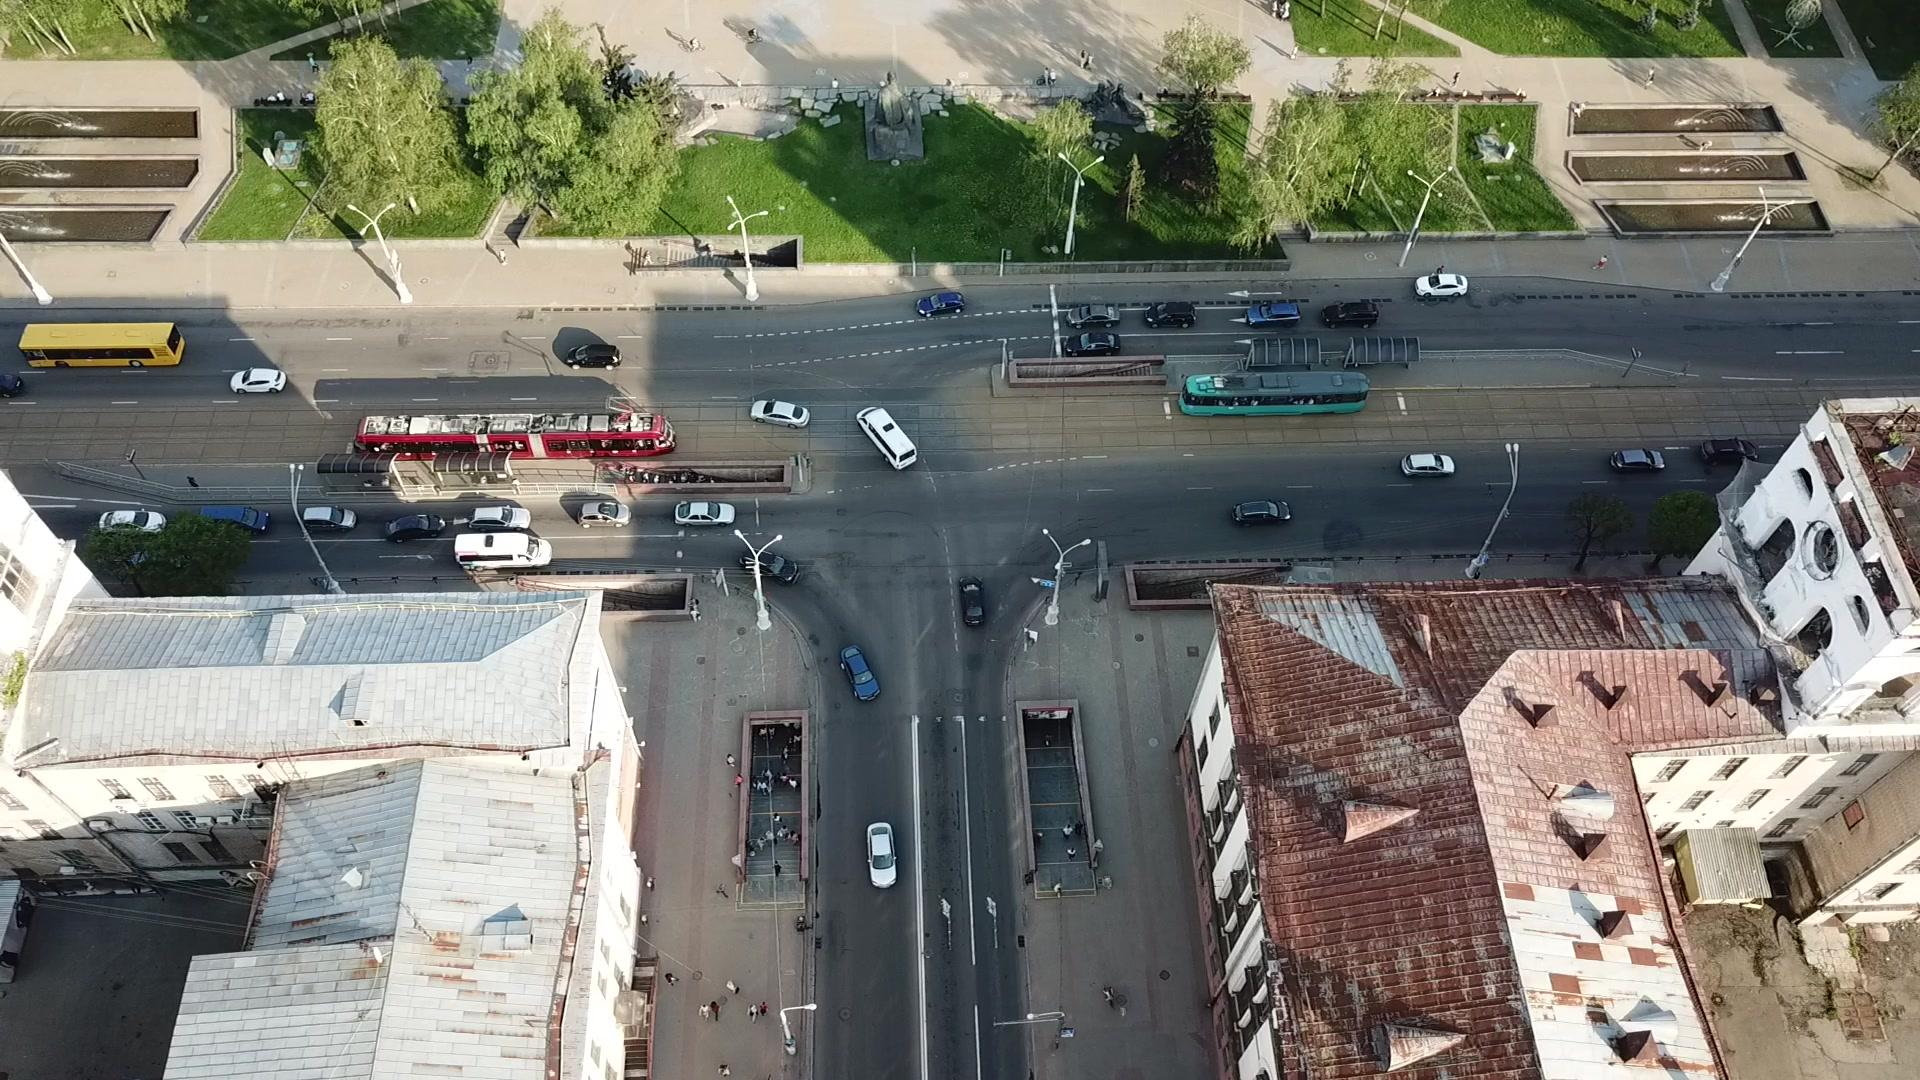car: (742, 396, 816, 431), (841, 646, 881, 703), (740, 549, 799, 585), (866, 822, 897, 889), (382, 513, 446, 542), (99, 509, 167, 535), (1320, 301, 1379, 328), (1700, 438, 1759, 465), (957, 574, 986, 628), (1232, 498, 1291, 525), (566, 344, 622, 371), (1062, 330, 1121, 355), (674, 502, 736, 526), (1246, 302, 1300, 328), (299, 506, 356, 531), (1400, 452, 1456, 477), (1610, 448, 1665, 473), (229, 368, 287, 392), (578, 502, 632, 527), (1145, 303, 1196, 328), (1414, 273, 1468, 297), (915, 291, 965, 316), (1065, 305, 1121, 327)
